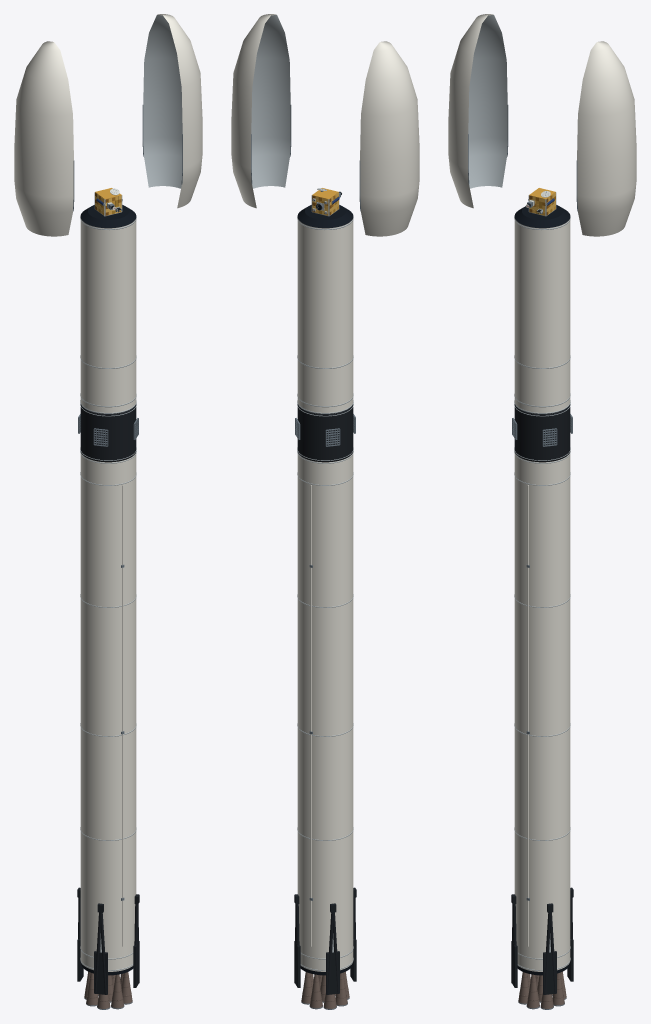
The model's file is dart_falcon9_fairing_open.glb.
The picture shows the model from 3 angles, left to right: view 1: azimuth 30°, elevation 25°; view 2: azimuth 150°, elevation 25°; view 3: azimuth 330°, elevation 25°; orthographic projection.
Parts seen in each view (by area): view 1: falcon9_stage_1.mesh_Warm_white_enamel, falcon9_stage_2.mesh_Warm_white_enamel, falcon9_fairing_l.mesh_Warm_white_enamel, falcon9_fairing_r.mesh_Satin_aluminum, falcon9_fairing_r.mesh_Warm_white_enamel, falcon9_interstage.mesh_Carbon_composite, falcon9_stage_1.landing_leg_04.shell.mesh_Carbon_composite, falcon9_stage_2.payload_adapter.mesh_Shadowed_interior, falcon9_stage_1.mesh_Satin_aluminum, falcon9_stage_1.landing_leg_01.shell.mesh_Carbon_composite; view 2: falcon9_stage_1.mesh_Warm_white_enamel, falcon9_stage_2.mesh_Warm_white_enamel, falcon9_fairing_l.mesh_Warm_white_enamel, falcon9_fairing_r.mesh_Satin_aluminum, falcon9_fairing_r.mesh_Warm_white_enamel, falcon9_interstage.mesh_Carbon_composite, falcon9_stage_1.landing_leg_03.shell.mesh_Carbon_composite, falcon9_stage_2.payload_adapter.mesh_Shadowed_interior, falcon9_stage_1.mesh_Satin_aluminum, falcon9_stage_1.landing_leg_02.shell.mesh_Carbon_composite; view 3: falcon9_stage_1.mesh_Warm_white_enamel, falcon9_stage_2.mesh_Warm_white_enamel, falcon9_fairing_r.mesh_Warm_white_enamel, falcon9_fairing_l.mesh_Satin_aluminum, falcon9_fairing_l.mesh_Warm_white_enamel, falcon9_interstage.mesh_Carbon_composite, falcon9_stage_1.landing_leg_01.shell.mesh_Carbon_composite, falcon9_stage_2.payload_adapter.mesh_Shadowed_interior, falcon9_stage_1.mesh_Satin_aluminum, falcon9_stage_1.landing_leg_04.shell.mesh_Carbon_composite.
Part boxes in pixels (left/top/right/bottom): falcon9_stage_1.mesh_Warm_white_enamel: left=80, top=452, right=136, bottom=971; falcon9_stage_2.mesh_Warm_white_enamel: left=80, top=218, right=136, bottom=413; falcon9_fairing_l.mesh_Warm_white_enamel: left=14, top=41, right=73, bottom=236; falcon9_fairing_r.mesh_Satin_aluminum: left=143, top=15, right=182, bottom=188; falcon9_fairing_r.mesh_Warm_white_enamel: left=157, top=14, right=202, bottom=208; falcon9_interstage.mesh_Carbon_composite: left=80, top=404, right=136, bottom=462; falcon9_stage_1.landing_leg_04.shell.mesh_Carbon_composite: left=94, top=903, right=107, bottom=994; falcon9_stage_2.payload_adapter.mesh_Shadowed_interior: left=80, top=205, right=136, bottom=228; falcon9_stage_1.mesh_Satin_aluminum: left=80, top=450, right=136, bottom=970; falcon9_stage_1.landing_leg_01.shell.mesh_Carbon_composite: left=133, top=894, right=139, bottom=987; falcon9_stage_1.mesh_Warm_white_enamel: left=297, top=452, right=353, bottom=971; falcon9_stage_2.mesh_Warm_white_enamel: left=297, top=218, right=353, bottom=413; falcon9_fairing_l.mesh_Warm_white_enamel: left=360, top=41, right=419, bottom=236; falcon9_fairing_r.mesh_Satin_aluminum: left=251, top=15, right=290, bottom=188; falcon9_fairing_r.mesh_Warm_white_enamel: left=231, top=14, right=276, bottom=208; falcon9_interstage.mesh_Carbon_composite: left=297, top=404, right=353, bottom=462; falcon9_stage_1.landing_leg_03.shell.mesh_Carbon_composite: left=326, top=903, right=339, bottom=994; falcon9_stage_2.payload_adapter.mesh_Shadowed_interior: left=297, top=205, right=353, bottom=228; falcon9_stage_1.mesh_Satin_aluminum: left=297, top=450, right=353, bottom=970; falcon9_stage_1.landing_leg_02.shell.mesh_Carbon_composite: left=294, top=894, right=300, bottom=987; falcon9_stage_1.mesh_Warm_white_enamel: left=514, top=452, right=570, bottom=971; falcon9_stage_2.mesh_Warm_white_enamel: left=514, top=218, right=570, bottom=413; falcon9_fairing_r.mesh_Warm_white_enamel: left=577, top=41, right=636, bottom=236; falcon9_fairing_l.mesh_Satin_aluminum: left=468, top=15, right=507, bottom=188; falcon9_fairing_l.mesh_Warm_white_enamel: left=448, top=14, right=493, bottom=208; falcon9_interstage.mesh_Carbon_composite: left=514, top=404, right=570, bottom=462; falcon9_stage_1.landing_leg_01.shell.mesh_Carbon_composite: left=543, top=903, right=556, bottom=994; falcon9_stage_2.payload_adapter.mesh_Shadowed_interior: left=514, top=205, right=570, bottom=228; falcon9_stage_1.mesh_Satin_aluminum: left=514, top=450, right=570, bottom=970; falcon9_stage_1.landing_leg_04.shell.mesh_Carbon_composite: left=511, top=894, right=517, bottom=987.
Bounding box in the file's own units: 13.4 × 70 × 5.26.
